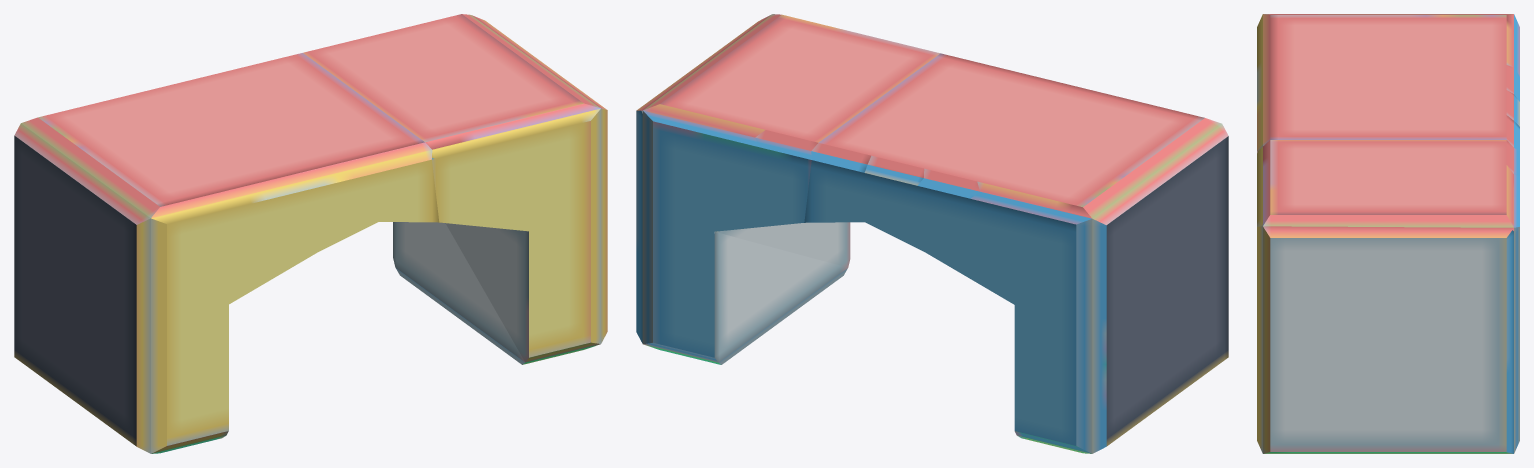
The model's file is bridge_buildingblocks_village.obj.
The picture shows the model from 3 angles, left to right: view 1: azimuth 30°, elevation 25°; view 2: azimuth 150°, elevation 25°; view 3: azimuth 270°, elevation 25°; orthographic projection. The views are drawn at different scales.
Visible parts, largest first — view 1: cube; view 2: cube; view 3: cube.
Part boxes in pixels (box(x1,y1,x2,y2)): cube: box(14, 14, 607, 453); cube: box(636, 14, 1228, 453); cube: box(1257, 14, 1519, 453).
Size of the model in its own units: 2 by 1 by 1.
